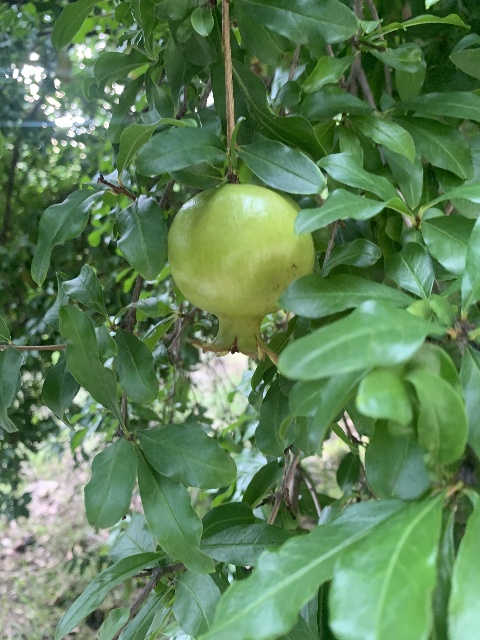mid-growth: (167, 181, 315, 364)
